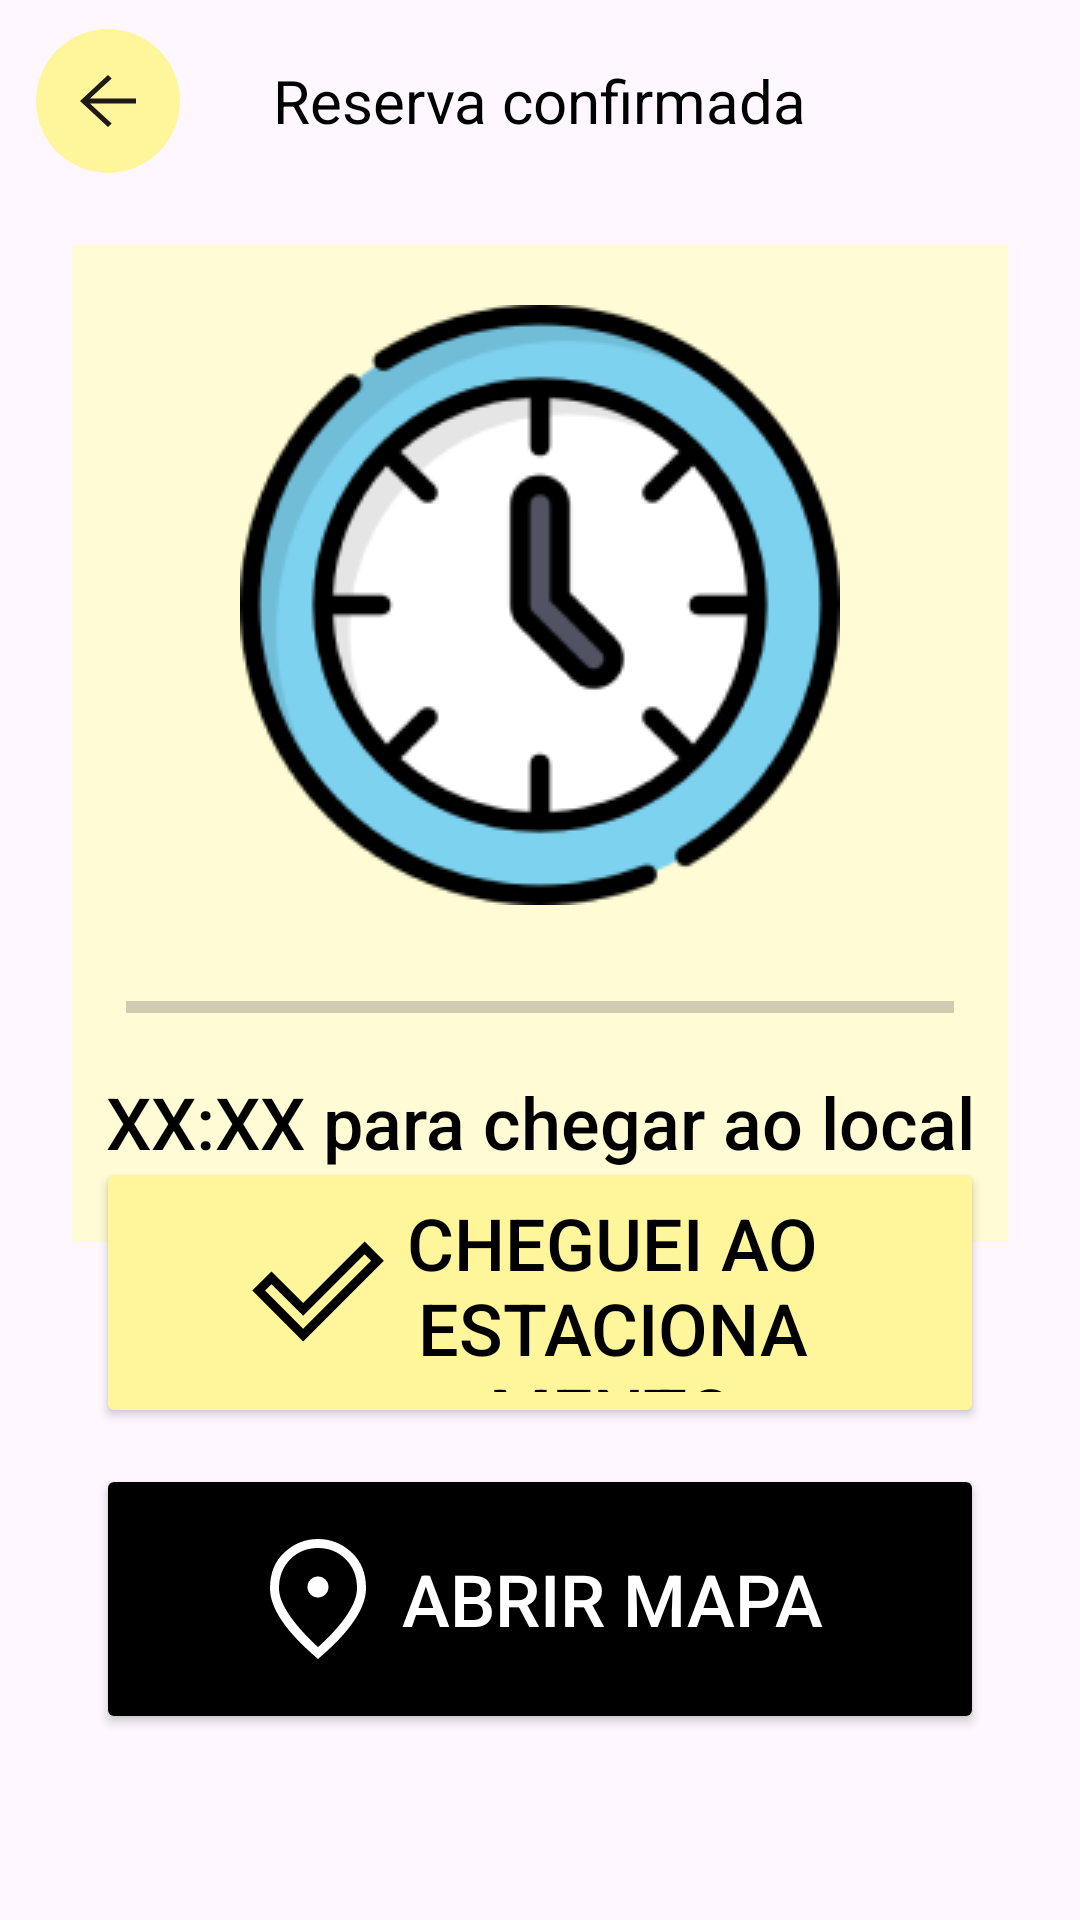

Named icons in this screenshot (1080 x 1920) and their centers, (x,y):
voltar: (108,101)
